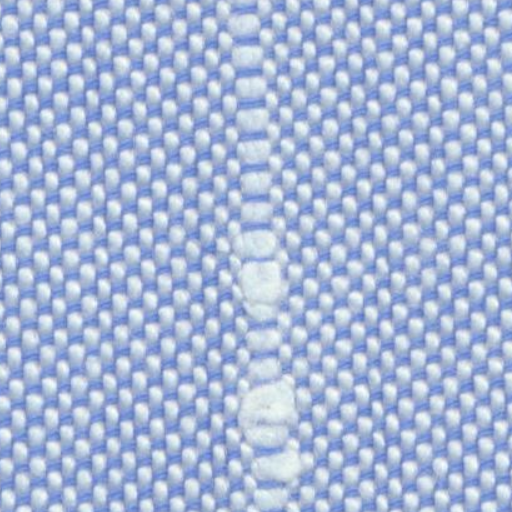MianQiu: (222, 376, 313, 506), (224, 242, 297, 314)
